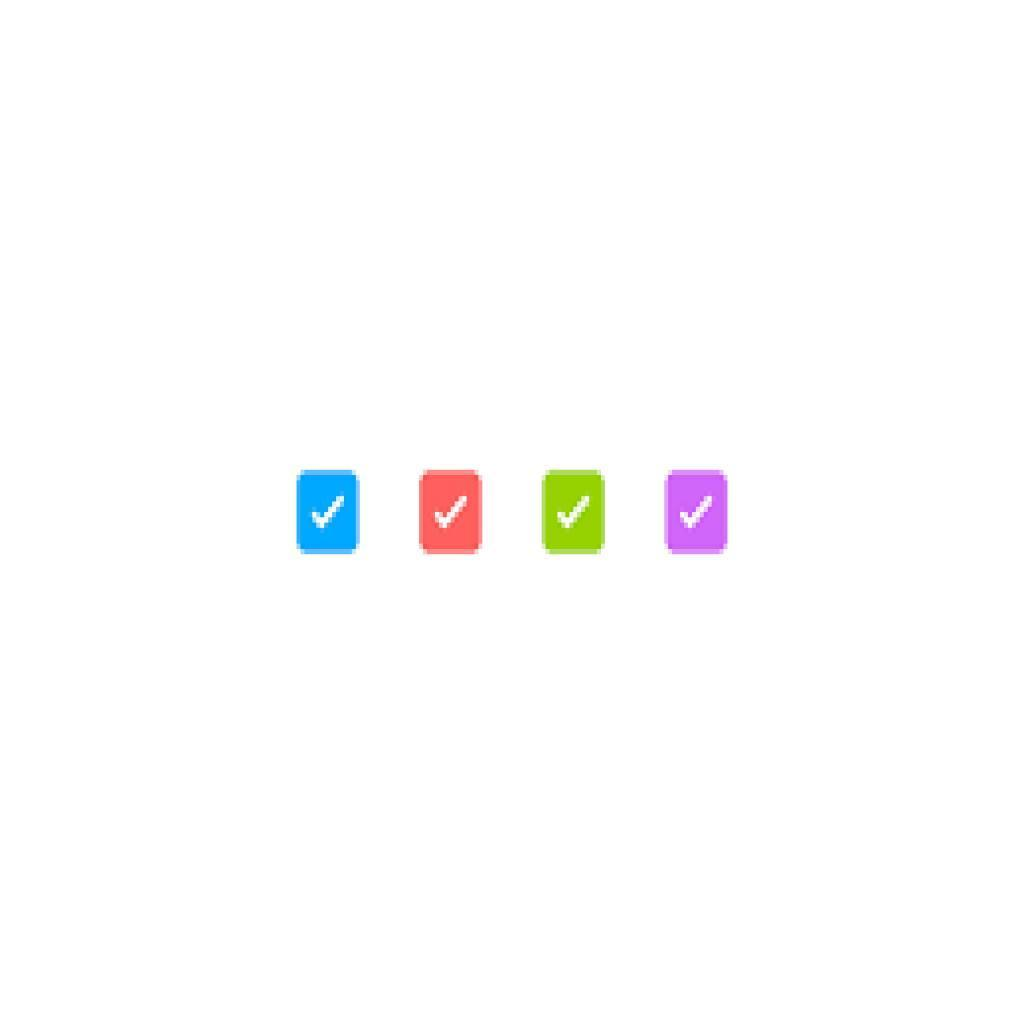checkbox: (540, 471, 609, 558), (420, 469, 483, 556), (664, 471, 729, 554), (298, 474, 360, 554)
